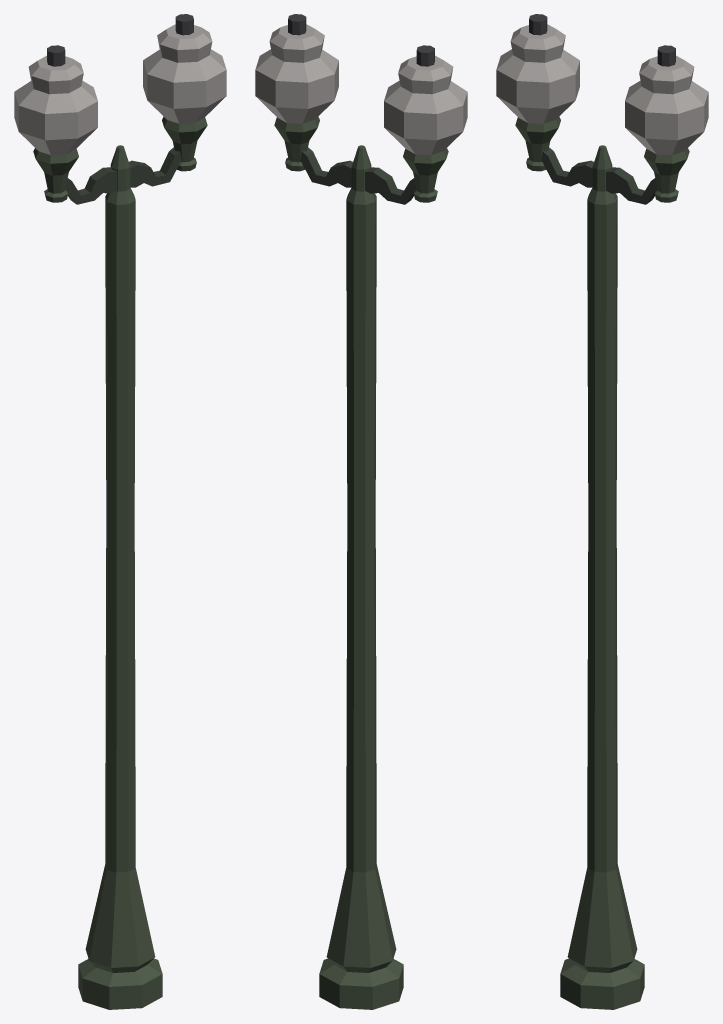
Rendered from lamp.glb.
3 views of the same model, side by side, from view 1: azimuth 30°, elevation 25°; view 2: azimuth 150°, elevation 25°; view 3: azimuth 330°, elevation 25° (orthographic).
Parts seen in each view (by area): view 1: SM_Prop_LightPole_Base_02; view 2: SM_Prop_LightPole_Base_02; view 3: SM_Prop_LightPole_Base_02.
Boxes of the visible parts, bbox=[...] form: SM_Prop_LightPole_Base_02: bbox=[14, 14, 226, 1009]; SM_Prop_LightPole_Base_02: bbox=[255, 14, 467, 1009]; SM_Prop_LightPole_Base_02: bbox=[496, 14, 708, 1009].
Bounding box in the file's own units: 1.1 × 4.95 × 0.4083.
1 material, 1 textured.
